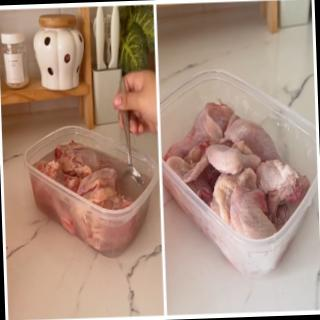Ayam: (161, 95, 315, 246), (31, 134, 155, 219)
